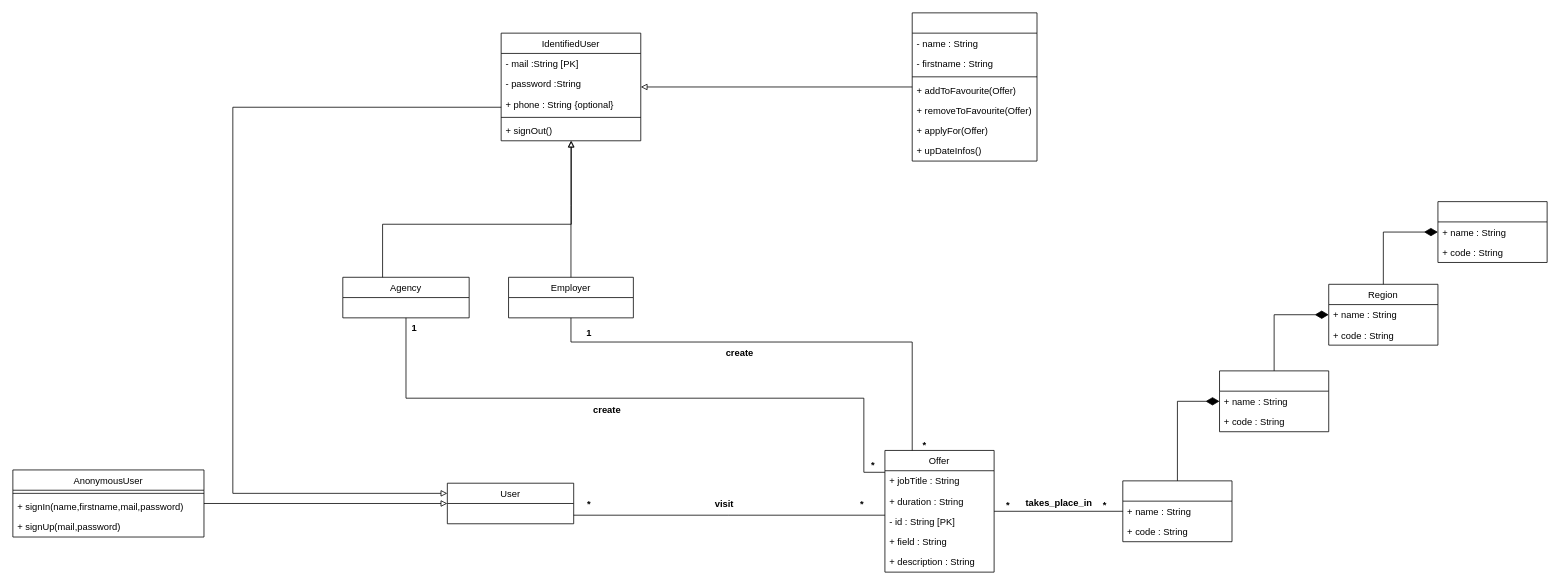
This 1560x585 diagram has some shape labels left out. The shapes that lost their labels are listed below. From the top down, each one's box as (x1, y1, x2, y2) in pixels, then its label:
(911, 12, 1037, 161): Candidate
(1437, 201, 1547, 262): Country
(1219, 370, 1329, 432): Department
(1122, 480, 1232, 542): City
